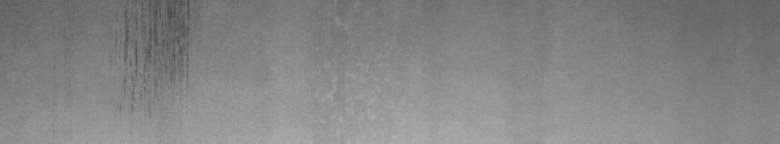ka: (124, 10, 182, 64)
